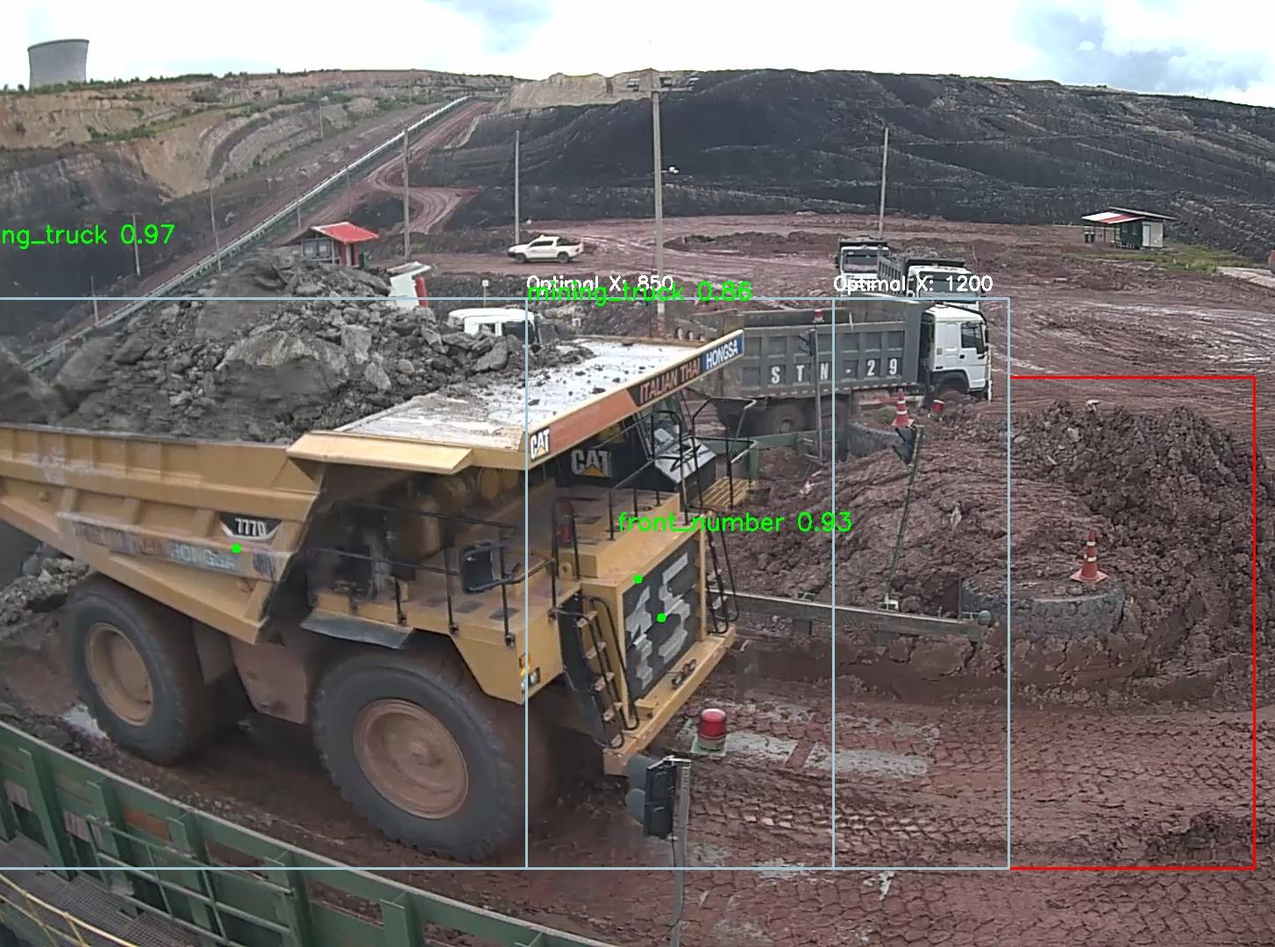company: (49, 507, 238, 581)
full_load: (130, 252, 437, 467)
mining_truck: (3, 233, 783, 861)
truck_size: (219, 507, 287, 545)
